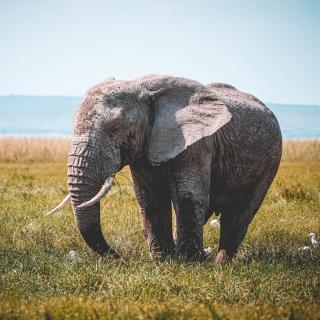Elephant: (43, 74, 288, 271)
